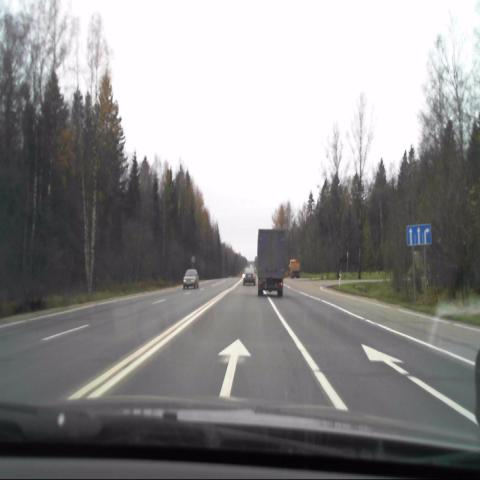5_15_1: (406, 224, 432, 245)
